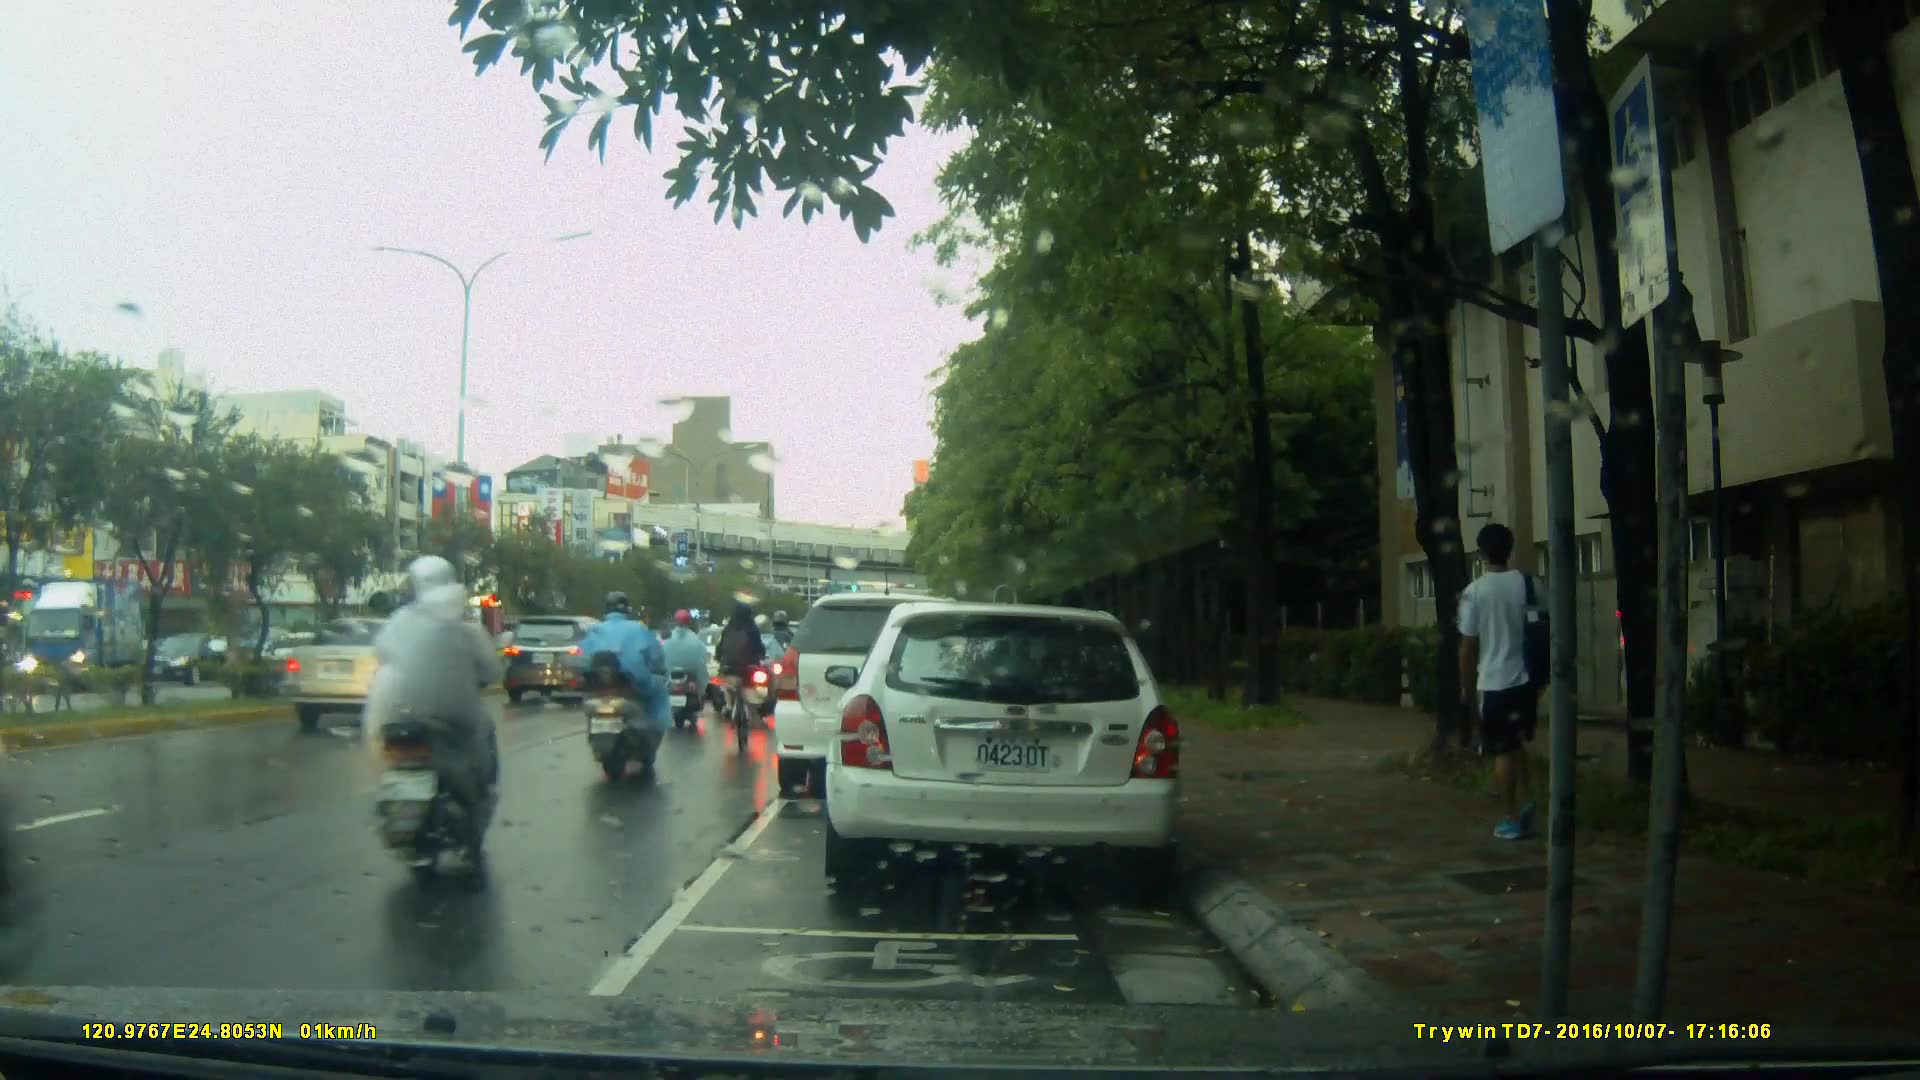pedestrian: (1462, 511, 1576, 878)
rider: (360, 558, 510, 889), (582, 593, 674, 783), (361, 593, 439, 786), (714, 600, 768, 769), (656, 604, 712, 724), (742, 619, 789, 726), (707, 612, 750, 708)
vehicle: (822, 604, 1188, 882), (774, 595, 995, 802), (280, 616, 477, 731), (20, 576, 161, 697), (500, 614, 628, 706), (144, 630, 241, 686)
